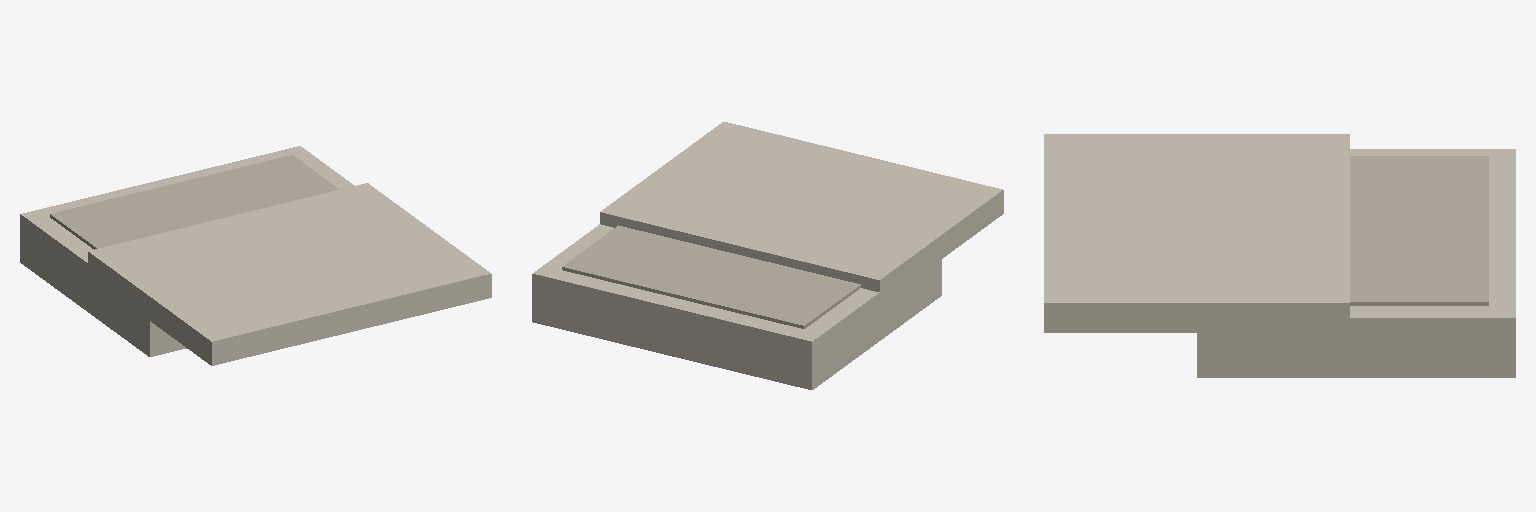
The robot description file, URDF, robot "old_laptop":
<?xml version="1.0"?>
<robot name="old_laptop">
  <!-- Base / keyboard body. X=width (left-right), Y=depth (+forward toward user), Z=up -->
  <link name="base">
    <inertial>
      <origin xyz="0 0 0" rpy="0 0 0"/>
      <mass value="2.0"/>
      <inertia ixx="0.01002" ixy="0" ixz="0" iyy="0.01542" iyz="0" izz="0.0246"/>
    </inertial>
    <visual>
      <origin xyz="0 0 0" rpy="0 0 0"/>
      <geometry>
        <box size="0.30 0.24 0.05"/>
      </geometry>
      <material name="beige">
        <color rgba="0.82 0.80 0.74 1"/>
      </material>
    </visual>
    <visual>
      <!-- keyboard area -->
      <origin xyz="0 0.01 0.026" rpy="0 0 0"/>
      <geometry>
        <box size="0.26 0.18 0.005"/>
      </geometry>
      <material name="keyboard">
        <color rgba="0.75 0.73 0.67 1"/>
      </material>
    </visual>
    <collision>
      <origin xyz="0 0 0" rpy="0 0 0"/>
      <geometry>
        <box size="0.30 0.24 0.05"/>
      </geometry>
    </collision>
  </link>

  <!-- Lid / screen. Local frame aligned with base when closed (joint=0).
       X=width, Y=depth, Z=thickness. Size Y=0.23 becomes height when open. -->
  <link name="lid">
    <inertial>
      <origin xyz="0 0 0" rpy="0 0 0"/>
      <mass value="0.8"/>
      <inertia ixx="0.00357" ixy="0" ixz="0" iyy="0.00604" iyz="0" izz="0.00953"/>
    </inertial>
    <visual>
      <origin xyz="0 0 0" rpy="0 0 0"/>
      <geometry>
        <box size="0.30 0.23 0.025"/>
      </geometry>
      <material name="beige_lid">
        <color rgba="0.82 0.80 0.74 1"/>
      </material>
    </visual>
    <visual>
      <!-- black LCD on underside (-Z side). Faces down when closed, faces +Y when open -->
      <origin xyz="0 0.01 -0.0125" rpy="0 0 0"/>
      <geometry>
        <box size="0.26 0.20 0.002"/>
      </geometry>
      <material name="screen">
        <color rgba="0.02 0.02 0.03 1"/>
      </material>
    </visual>
    <collision>
      <origin xyz="0 0 0" rpy="0 0 0"/>
      <geometry>
        <box size="0.30 0.23 0.025"/>
      </geometry>
    </collision>
  </link>

  <!-- Hinge at rear edge of base. Rotation about X (left-right) opens lid.
       0 = fully closed flat, ~1.85 rad = ~106 deg open (vertical, as in video) -->
  <joint name="hinge" type="revolute">
    <parent link="base"/>
    <child link="lid"/>
    <origin xyz="0 -0.12 0.025" rpy="0 0 0"/>
    <axis xyz="1 0 0"/>
    <limit lower="0" upper="1.85" effort="10" velocity="2.0"/>
    <dynamics damping="0.2" friction="0.1"/>
  </joint>
</robot>

--- Facts derived from the render (not from the file) ---
Views: 3 orthographic renders of the robot side by side, from view 1: azimuth 30°, elevation 25°; view 2: azimuth 150°, elevation 25°; view 3: azimuth 270°, elevation 25°.
Model old_laptop with 2 links and 1 joints (1 revolute), rooted at base, posed all joints at 0.
Visible links, largest first — view 1: lid, base; view 2: base, lid; view 3: lid, base.
Boxes of the visible links, <box> form: lid: <box>88,183,491,365</box>; base: <box>20,146,354,356</box>; base: <box>532,224,941,389</box>; lid: <box>600,122,1003,298</box>; lid: <box>1044,134,1349,332</box>; base: <box>1197,149,1515,377</box>.
Bounding box of the posed robot: 0.3 × 0.355 × 0.0625 m (x, y, z).
Geometry: primitives only (box / cylinder / sphere), no mesh files.
